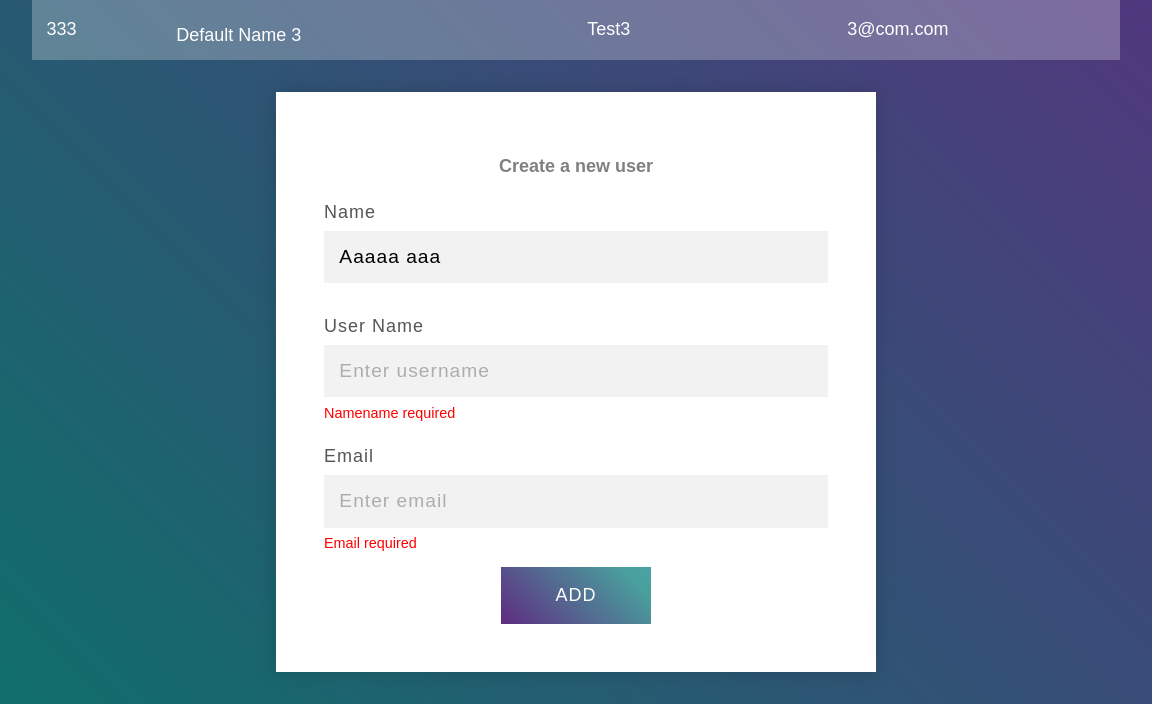
Form validation test › Test for Name and Username
(page scrolled)
Type "Bbbb bbbb" into the field with placeholder "Enter username".
click(576, 371); type("Bbbb bbbb")  # box [324,345,828,398]
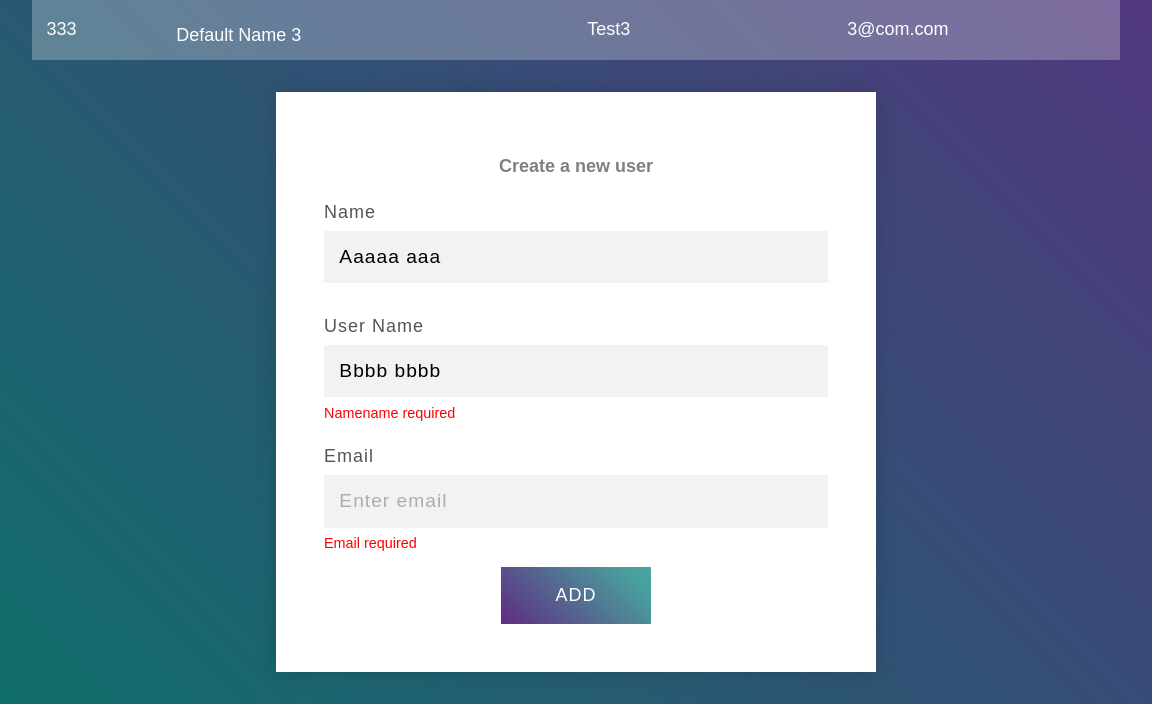
Click the button "Add".
click(576, 596)  # box [501,567,651,624]
(page scrolled)
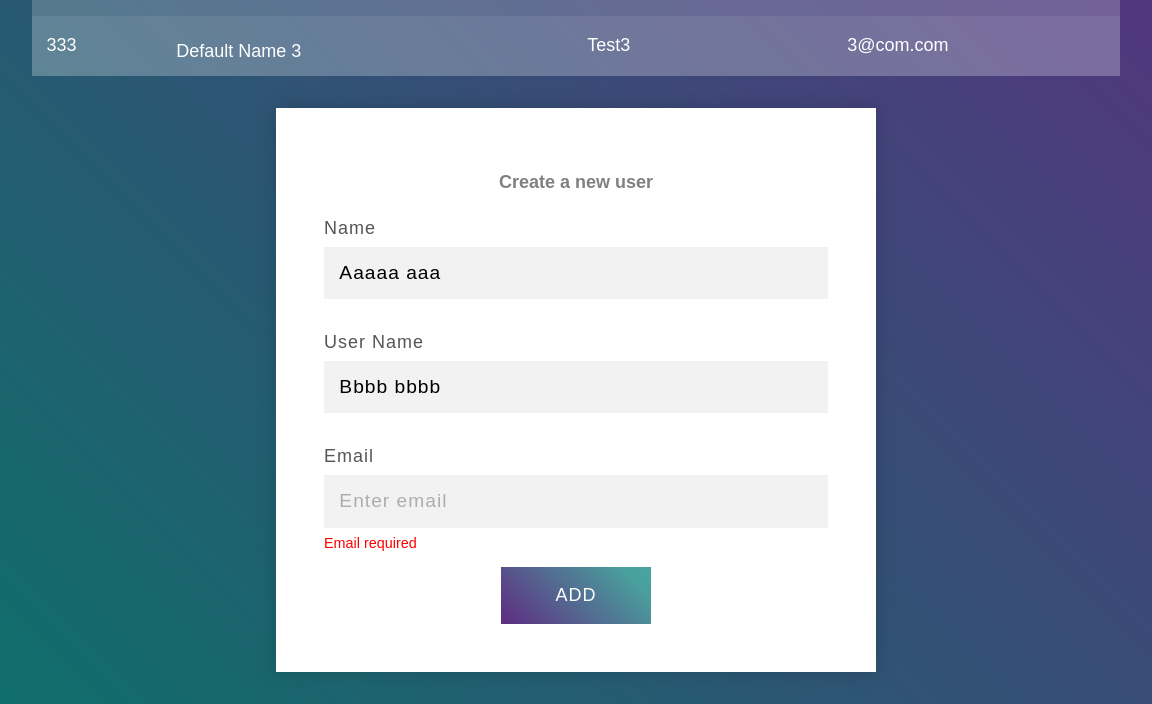
expect the text "Email required" is shown: met, box [324,535,417,551]
expect the text "name required" is gone: met
expect the text "Namename required" is gone: met
